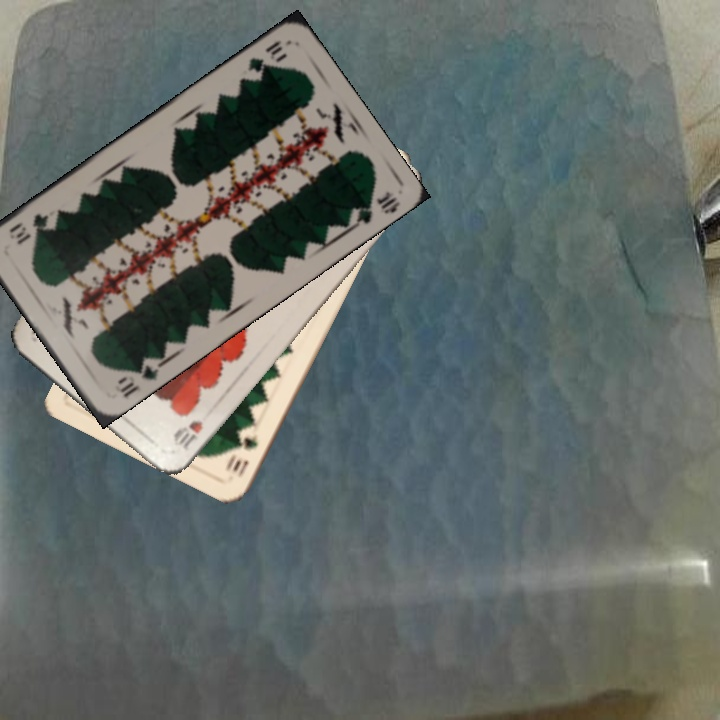G10: (113, 353, 163, 401), (244, 35, 290, 77), (223, 431, 261, 481)
H10: (169, 416, 206, 454)
